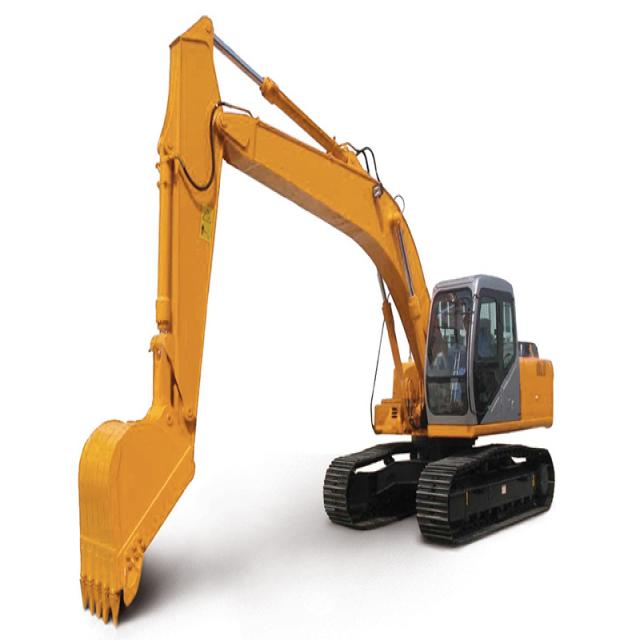excavator: (323, 253, 566, 545)
